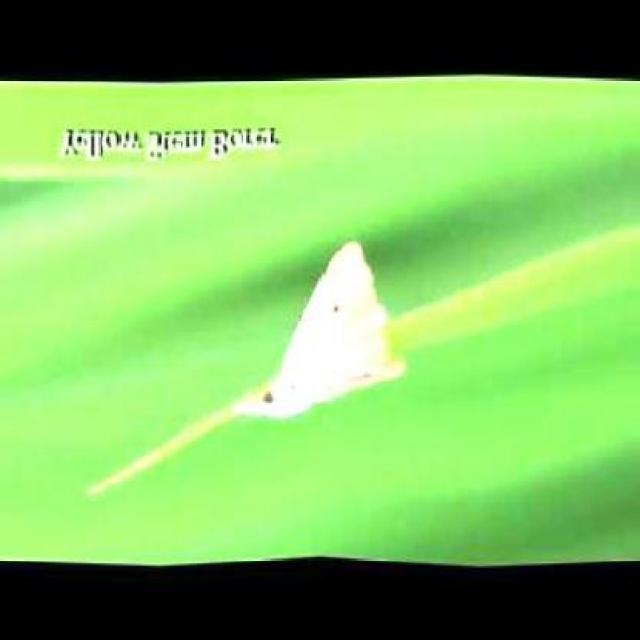stem-borer: (229, 235, 409, 423)
